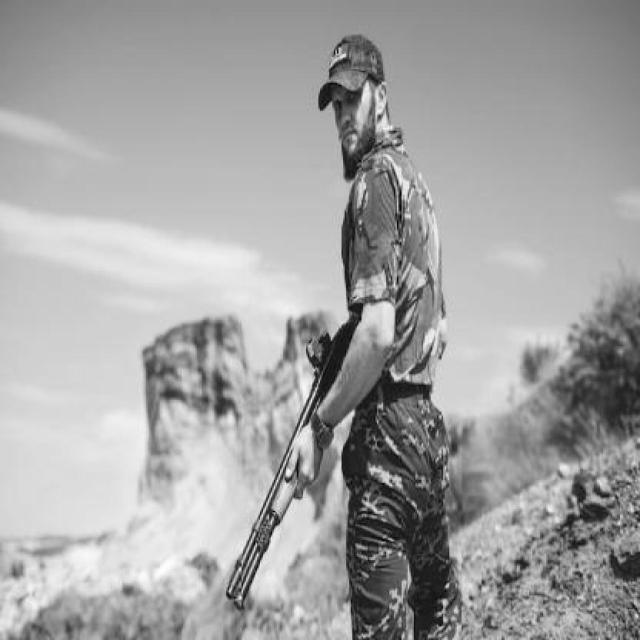weapon: (224, 311, 362, 612)
